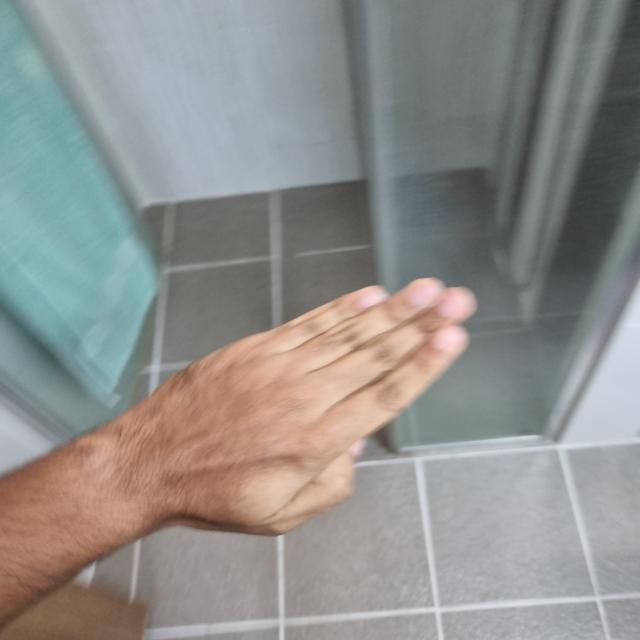Paper: (128, 281, 477, 537)
